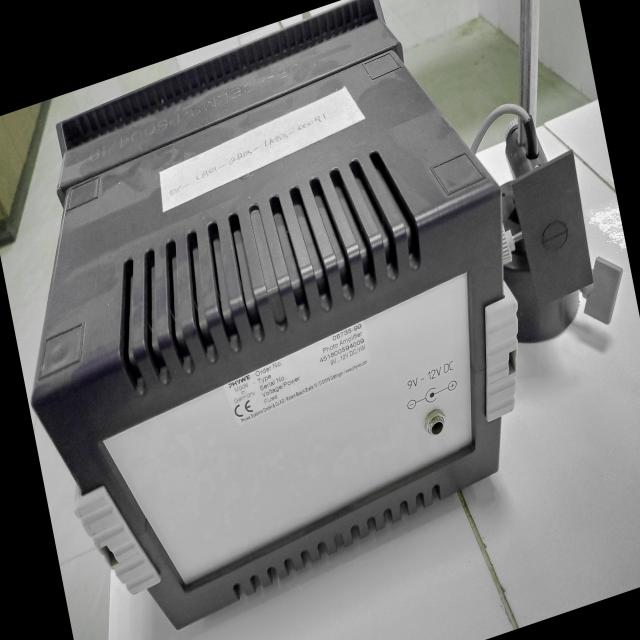Photo Amplifier Power Supply: (0, 0, 627, 640)
